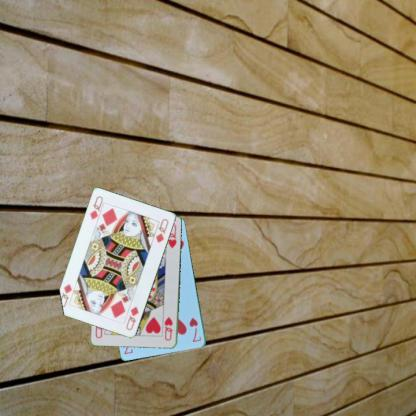7h: (187, 316, 202, 343)
Qd: (87, 194, 106, 224), (124, 304, 140, 332)
Qh: (162, 314, 174, 342)
